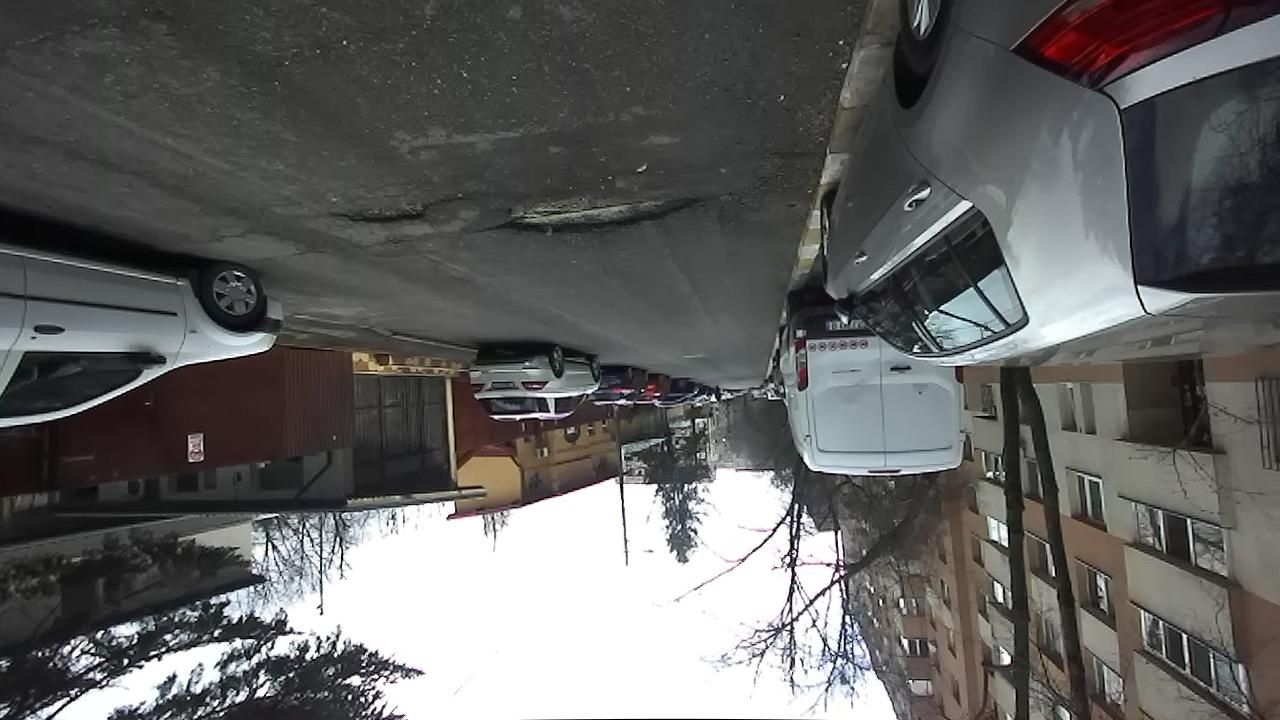pothole: (474, 184, 719, 242), (327, 191, 472, 226)
